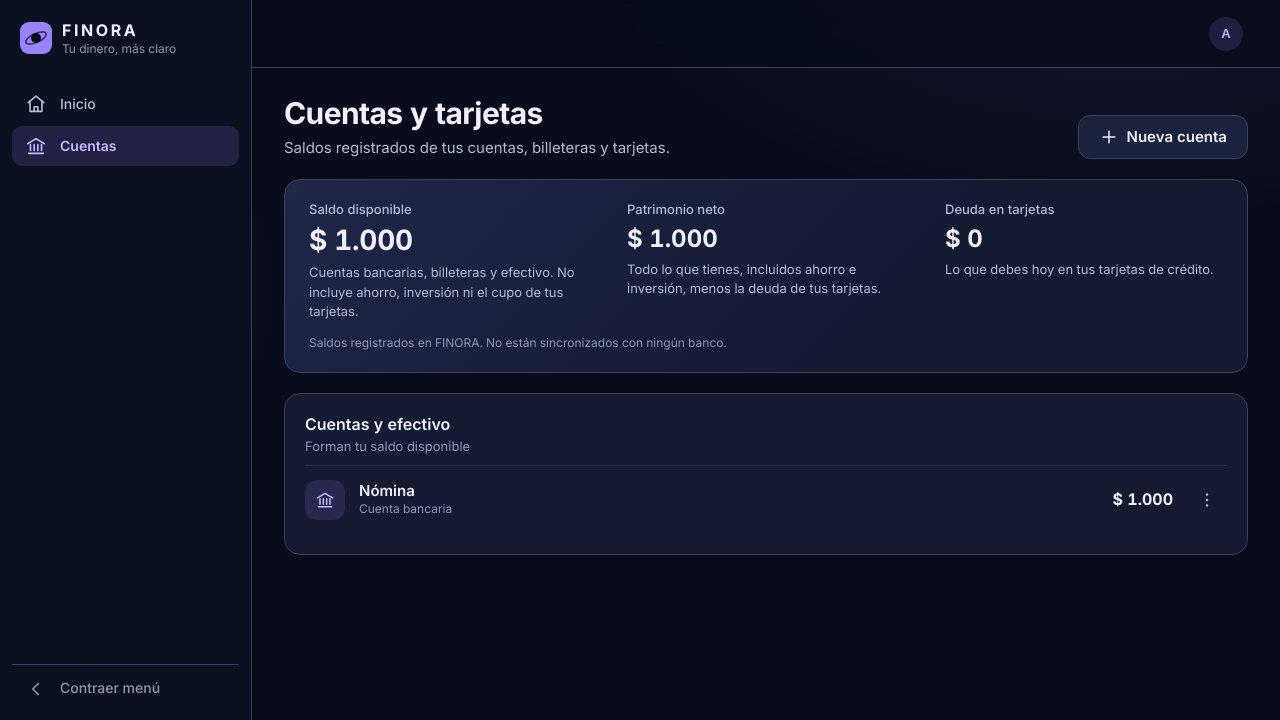
Test case: eliminar (CA-ACC-05) › 404: cierra el diálogo, avisa y recarga
Click the button named "Acciones de Nómina": [1207, 500] box [1187,480,1227,520]
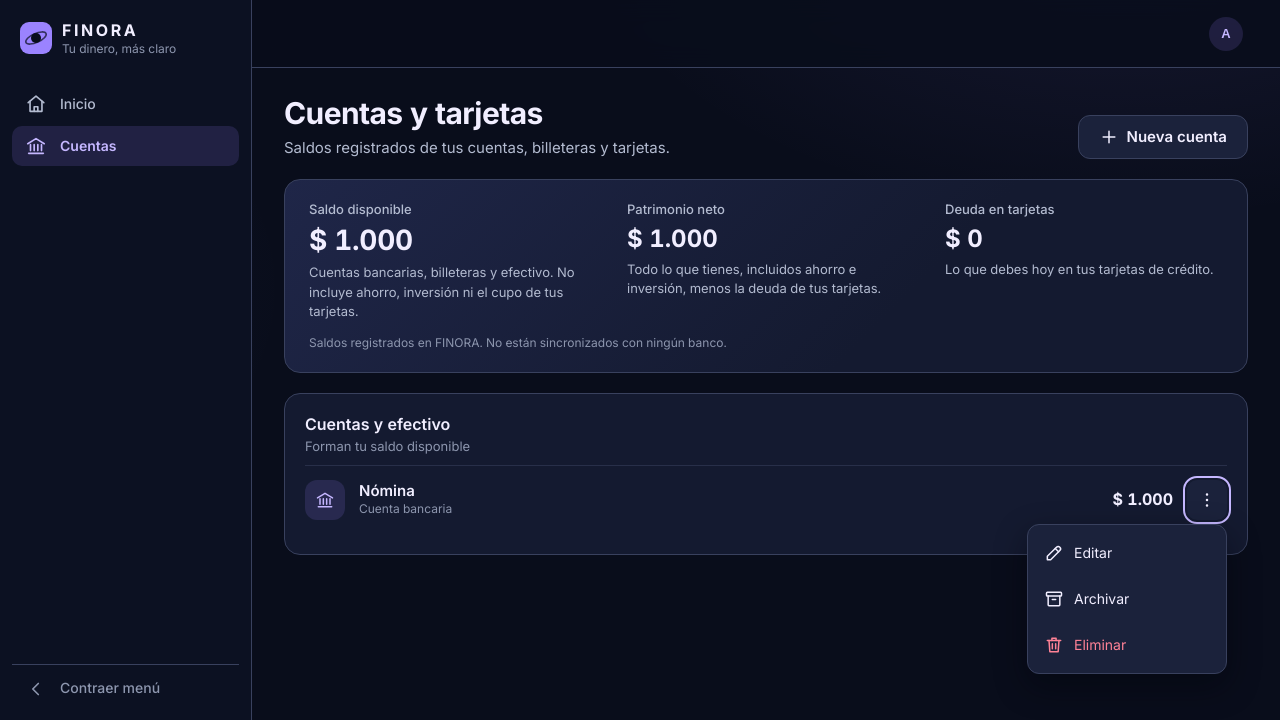
Click the button "Eliminar": [1127, 645] box [1034,623,1220,667]
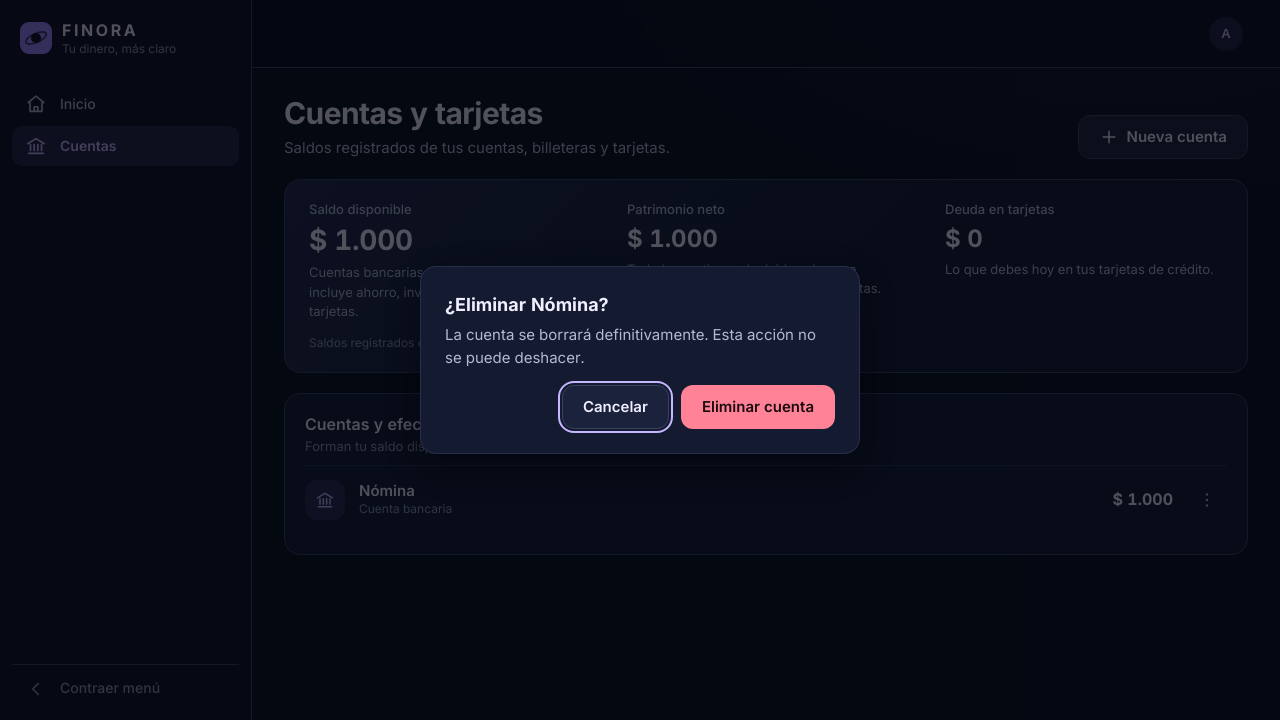
Click the button "Eliminar cuenta": [758, 407] box [681,385,835,429]
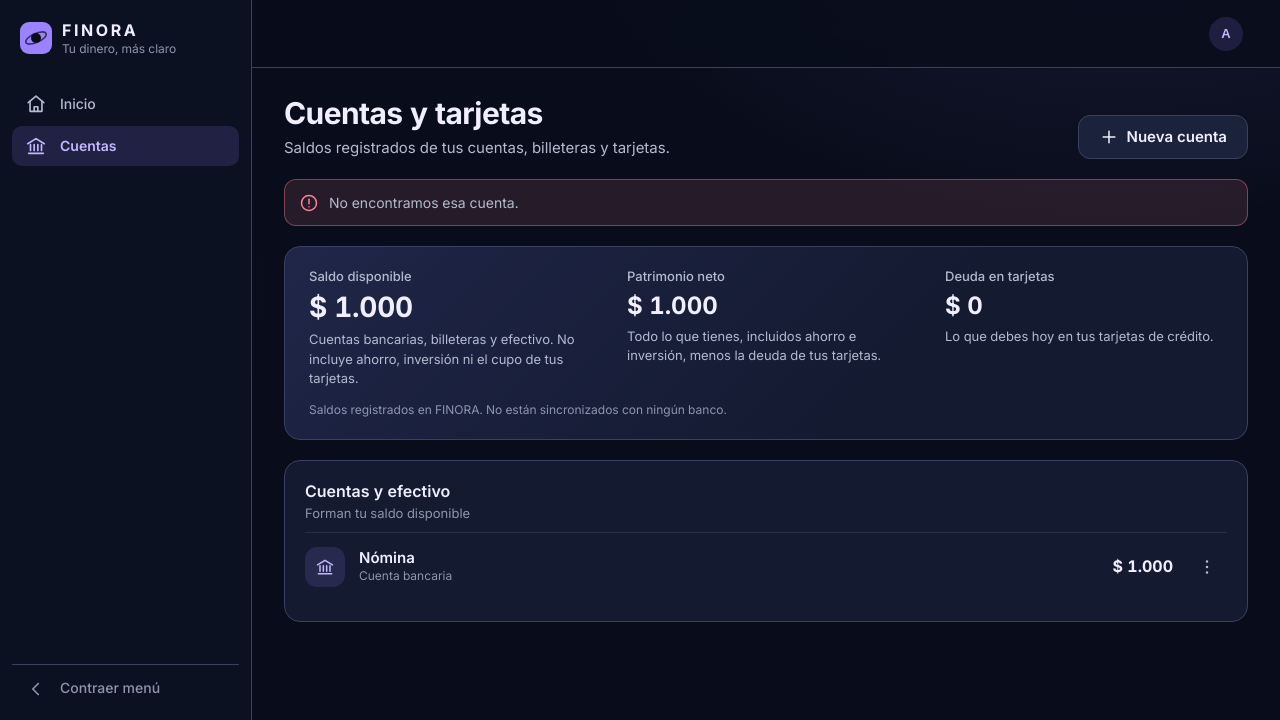
Expected: the message reads "No encontramos esa cuenta.", [329,194,518,211]
Expected: the dialog is gone
